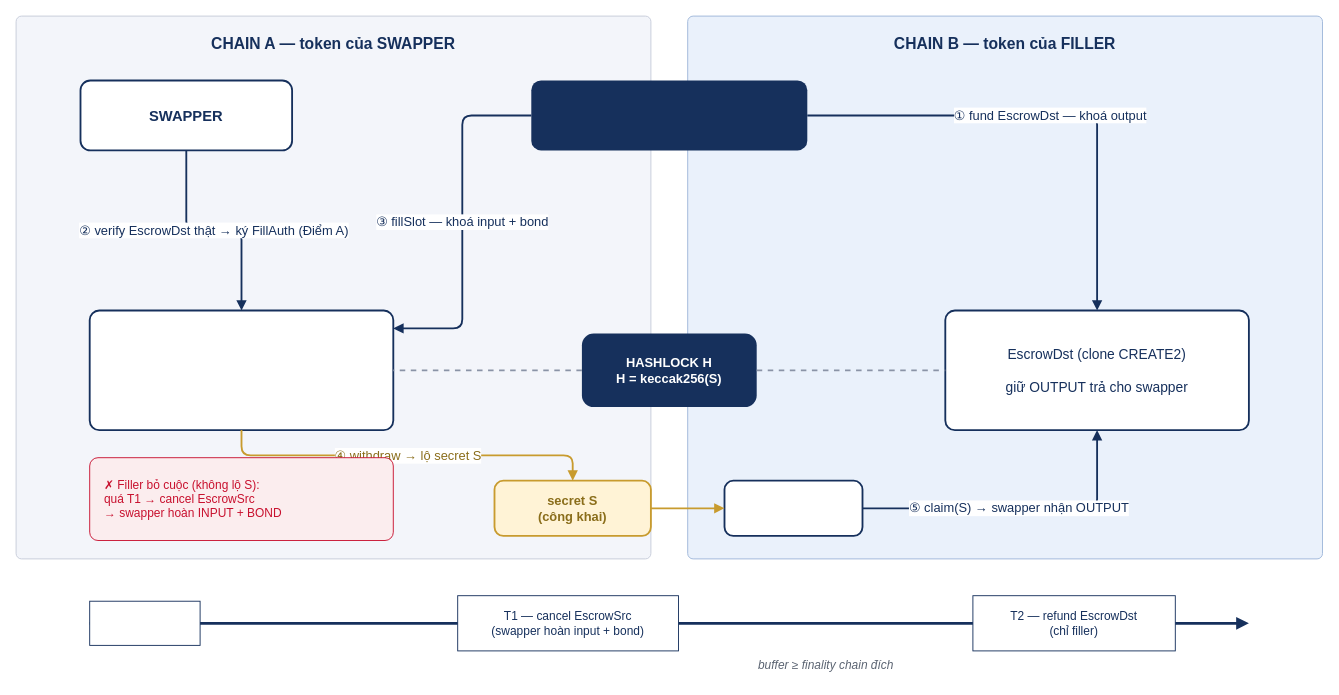
Image size: 1339x695. Some labels were removed from this diagram. The shapes that lost their labels are listed below. From the top down, each one's centre as x and y in pixels, then its label:
point (669, 115): FILLER — giữ secret S
point (241, 370): EscrowSrc (clone CREATE2) giữ INPUT của swapper + BOND của filler
point (793, 507): RELAYER
point (144, 622): bây giờ
